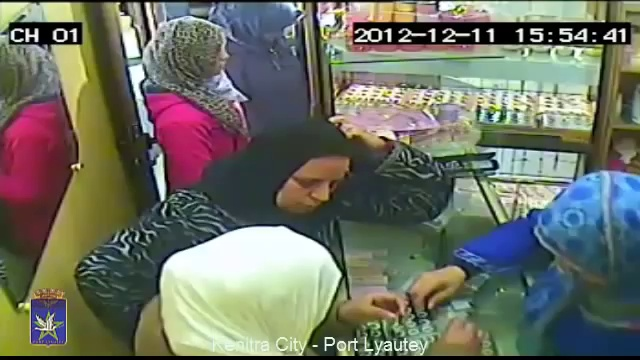face: (279, 165, 337, 214)
